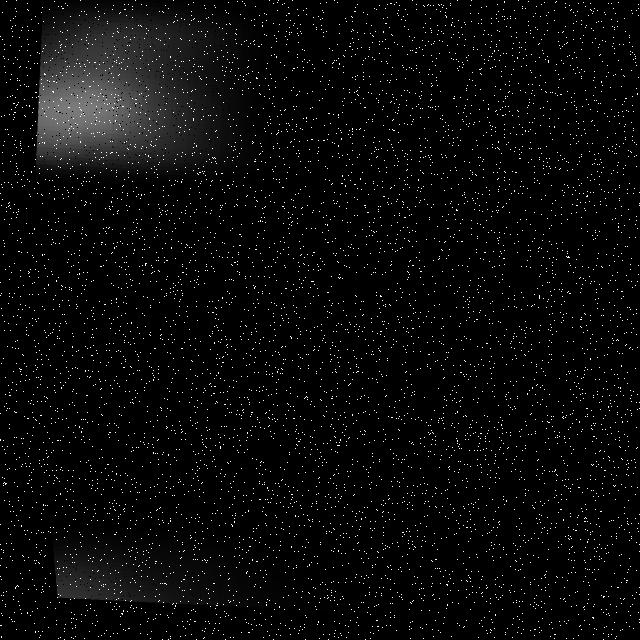person: (17, 1, 387, 228), (39, 472, 501, 640)
